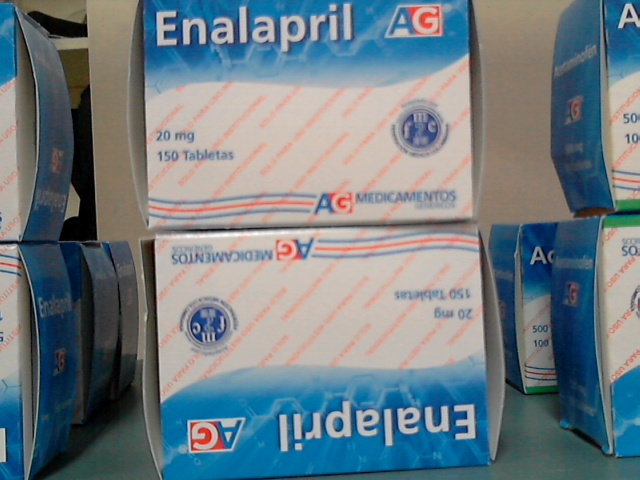AG: (156, 234, 485, 480), (144, 1, 470, 220)
